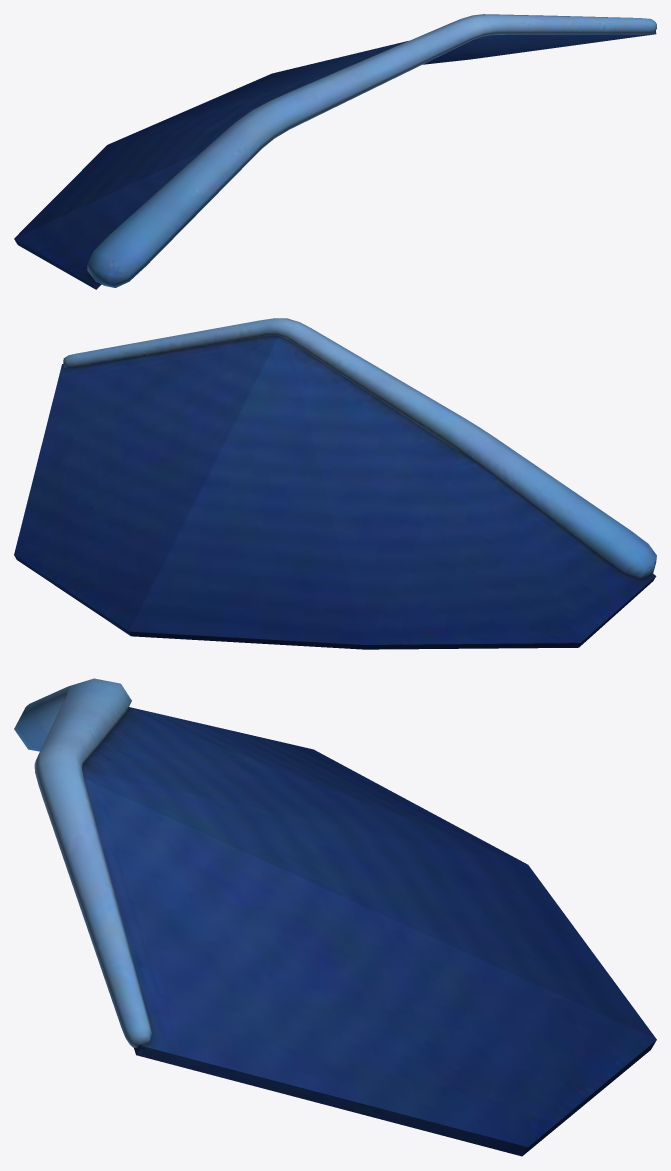
File: u_drakewingL_f_g.glb
3 views of the same model, one above another, from view 1: azimuth 30°, elevation 25°; view 2: azimuth 150°, elevation 25°; view 3: azimuth 270°, elevation 25° (orthographic). The views are drawn at different scales.
Visible parts, largest first — view 1: u_drakewingL_f; view 2: u_drakewingL_f; view 3: u_drakewingL_f.
Boxes of the visible parts, x1,y1,x2,y2 form: u_drakewingL_f: (14, 14, 656, 289); u_drakewingL_f: (14, 318, 656, 649); u_drakewingL_f: (14, 678, 656, 1156).
Bounding box in the file's own units: 2.6 × 0.8023 × 1.5.
1 material, 1 textured.
